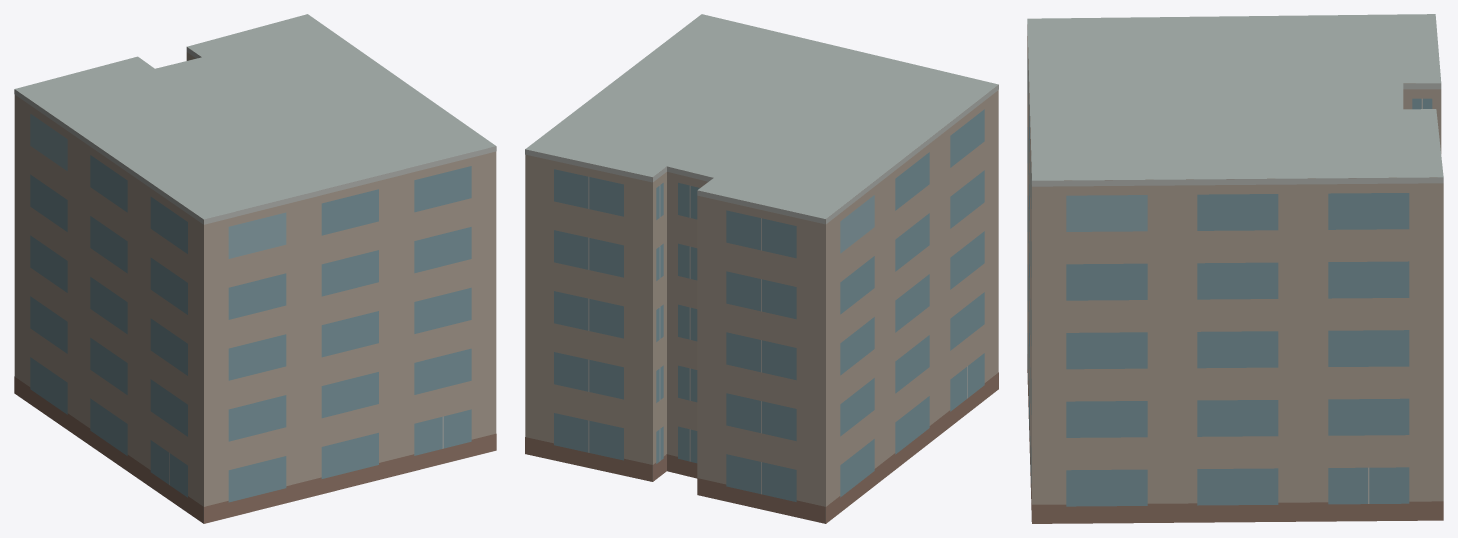
Rendered from survey-upis-32550921.glb.
3 renders of one model, left to right at view 1: azimuth 30°, elevation 25°; view 2: azimuth 150°, elevation 25°; view 3: azimuth 270°, elevation 25°, orthographic. The views are drawn at different scales.
Visible parts, largest first — view 1: survey-upis-32550921.tmp; view 2: survey-upis-32550921.tmp; view 3: survey-upis-32550921.tmp.
Boxes of the visible parts, left/top/right/bottom form: survey-upis-32550921.tmp: left=14, top=14, right=496, bottom=523; survey-upis-32550921.tmp: left=525, top=14, right=998, bottom=523; survey-upis-32550921.tmp: left=1027, top=14, right=1443, bottom=523.
Size of the model in its own units: 14.7 by 14.1 by 15.52.
